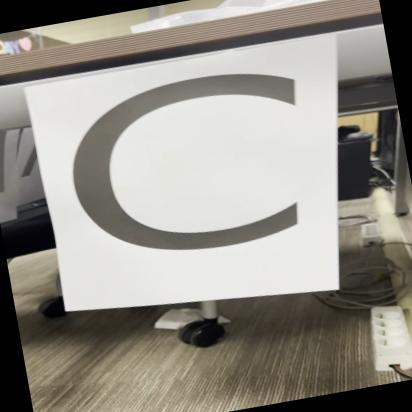seat: (23, 29, 354, 339)
